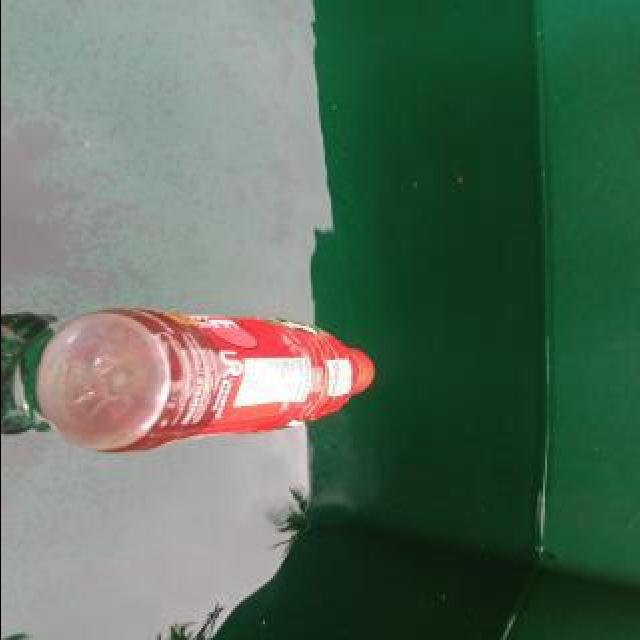Bottle: (22, 298, 382, 461)
